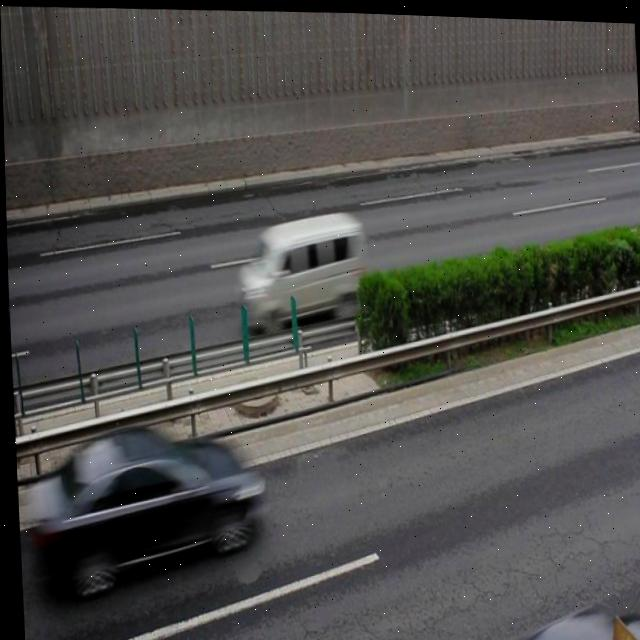car: (48, 419, 257, 599)
truck: (232, 204, 362, 331)
